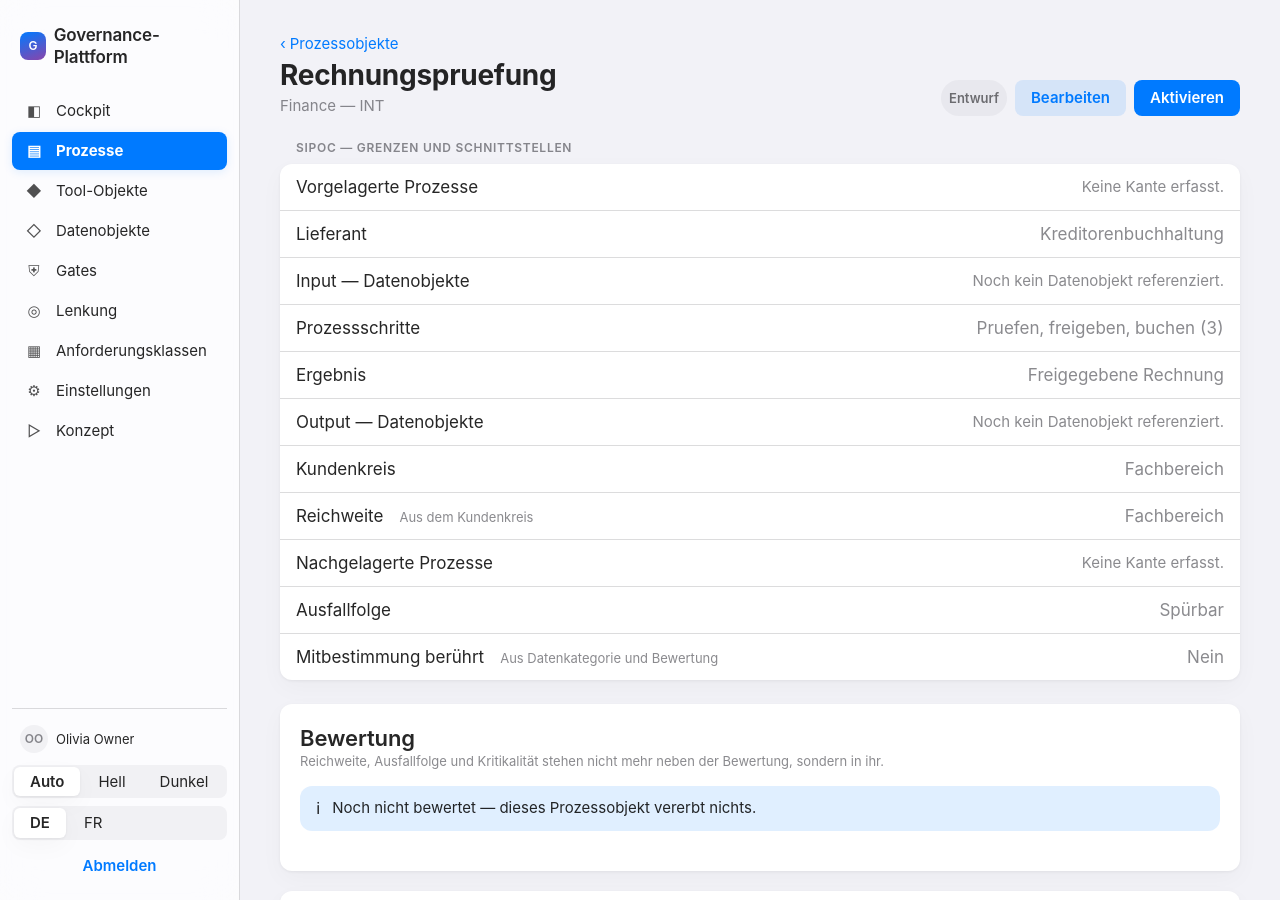
Test case: Prozessdetail — Kanten, Wirkung und Status › nennt den Grund, wenn die Aktivierung abgelehnt wird
Click the button "Aktivieren" at (1187, 98), box 1134,80 -> 1240,116
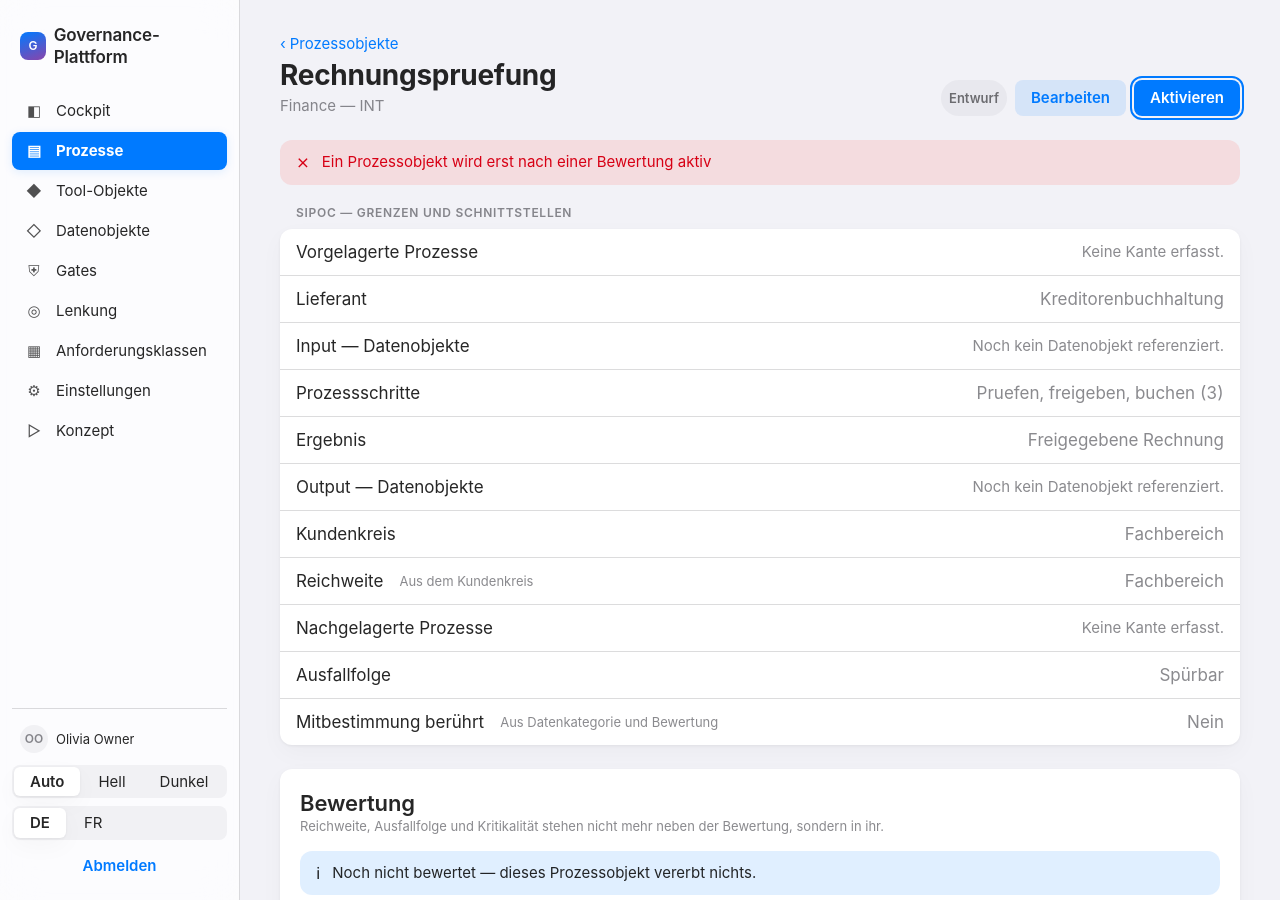
Expected: the text "Ein Prozessobjekt wird erst nach einer Bewertung aktiv" is shown, 322,152 -> 711,172
